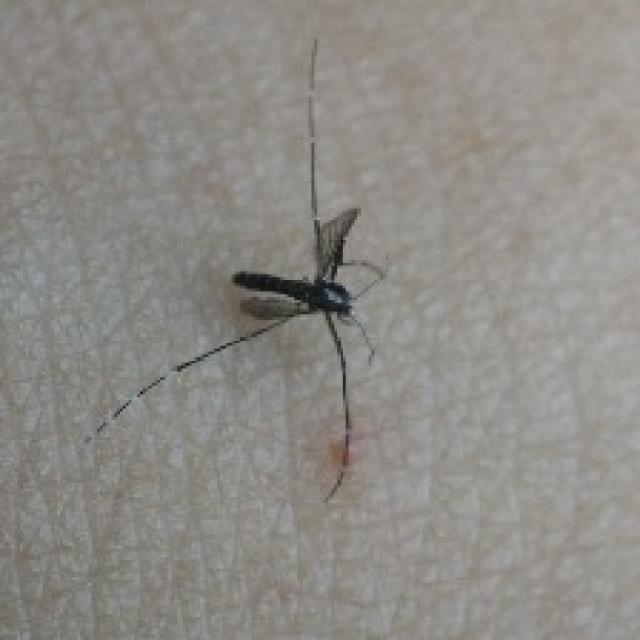aedes: (89, 34, 388, 503)
